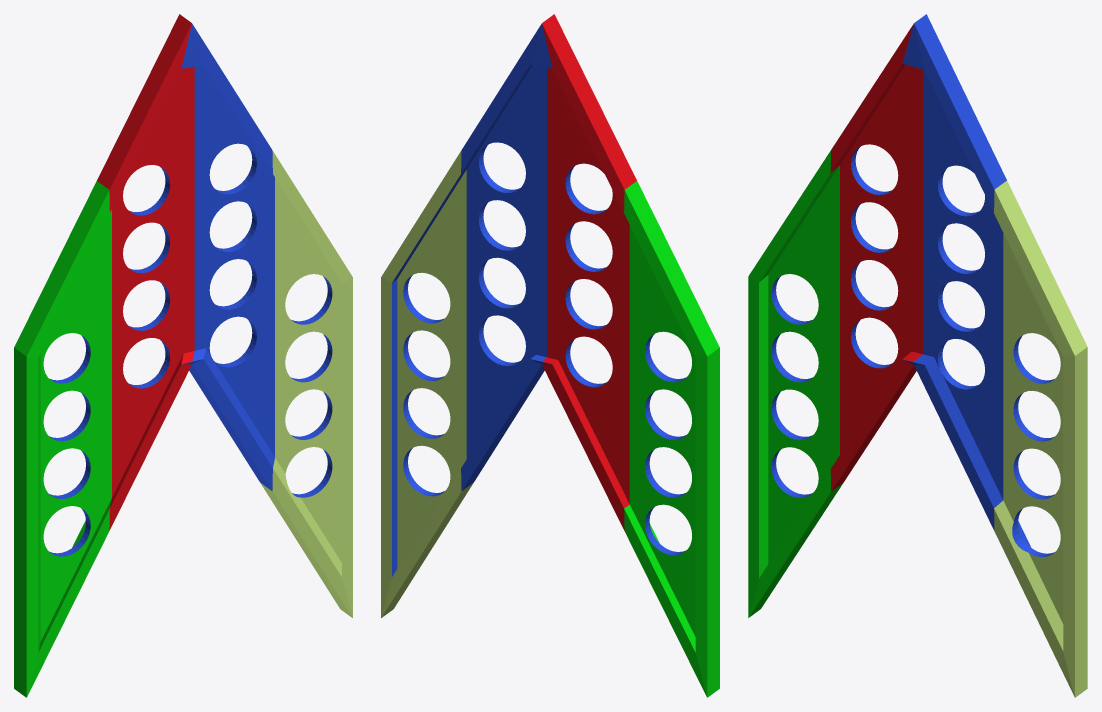
3 renders of one model, left to right at view 1: azimuth 30°, elevation 25°; view 2: azimuth 150°, elevation 25°; view 3: azimuth 330°, elevation 25°, orthographic.
Parts seen in each view (by area): view 1: Cube.004; view 2: Cube.004; view 3: Cube.004.
Boxes of the visible parts, x1=… form: Cube.004: x1=14, y1=14, x2=352, y2=697; Cube.004: x1=381, y1=14, x2=719, y2=697; Cube.004: x1=748, y1=14, x2=1087, y2=697.
Bounding box in the file's own units: 414 × 29.76 × 770.
